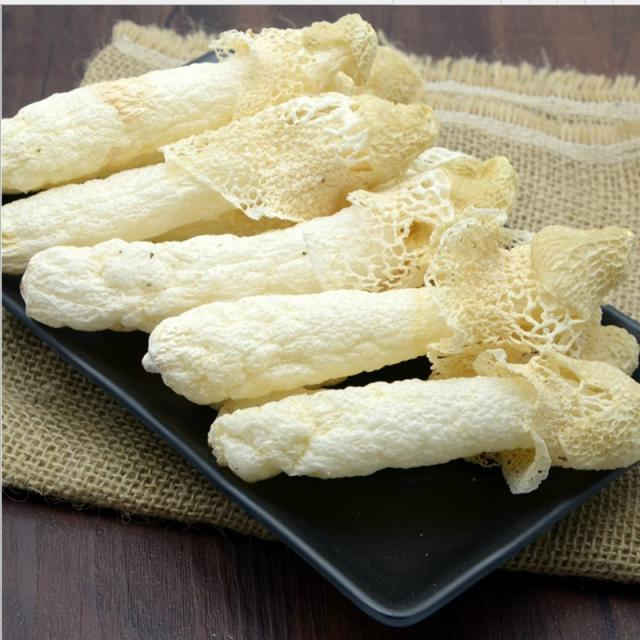Dictyophora indusiate: (141, 210, 640, 403), (19, 159, 514, 332), (0, 13, 375, 199), (0, 94, 439, 228), (203, 371, 640, 492)
